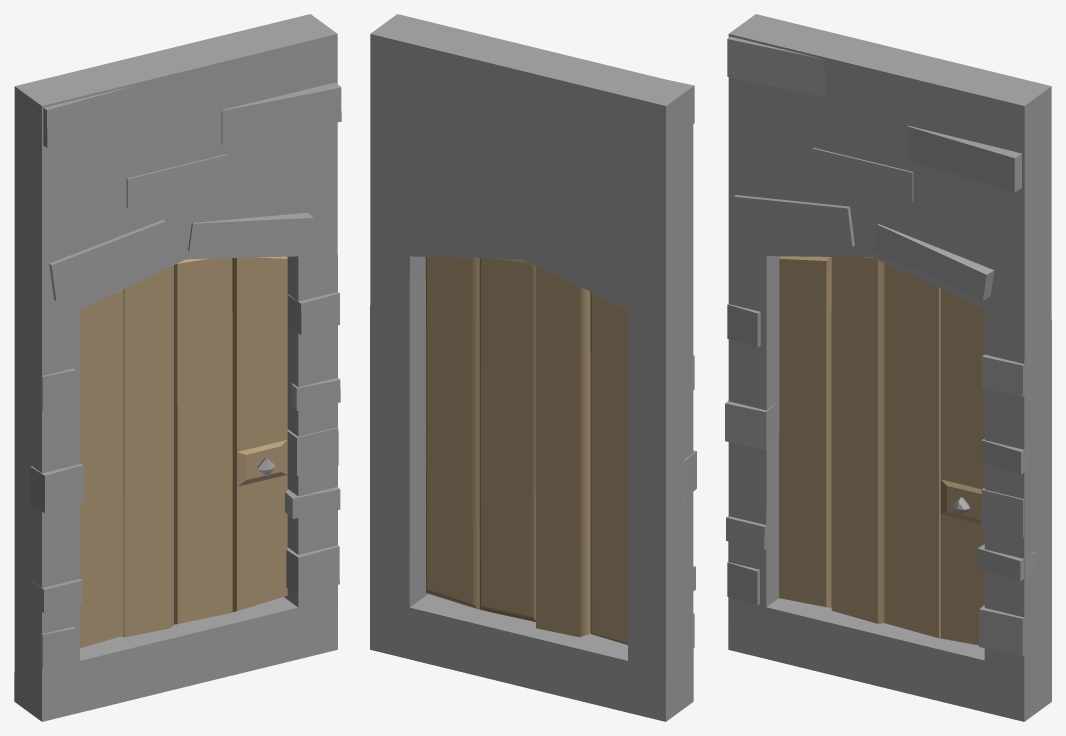
File: Gate.fbx
3 renders of one model, left to right at view 1: azimuth 30°, elevation 25°; view 2: azimuth 150°, elevation 25°; view 3: azimuth 330°, elevation 25°, orthographic.
Visible parts, largest first — view 1: pared_puerta, madera1, pared_puerta14, pared_puerta9, pared_puerta12, pared_puerta10, pared_puerta11, pared_puerta5, pared_puerta4, pared_puerta2, pared_puerta13, pared_puerta7 (+4 smaller); view 2: pared_puerta, madera1; view 3: pared_puerta, madera1, pared_puerta14, pared_puerta9, pared_puerta10, pared_puerta12, pared_puerta11, pared_puerta4, pared_puerta5, pared_puerta2, pared_puerta13, pared_puerta7 (+4 smaller).
Part boxes in pixels (bbox=[...]): pared_puerta: bbox=[14, 14, 337, 721]; madera1: bbox=[80, 256, 287, 648]; pared_puerta14: bbox=[49, 219, 170, 301]; pared_puerta9: bbox=[221, 82, 341, 144]; pared_puerta12: bbox=[188, 212, 313, 251]; pared_puerta10: bbox=[43, 85, 139, 147]; pared_puerta11: bbox=[126, 154, 227, 208]; pared_puerta5: bbox=[286, 545, 339, 595]; pared_puerta4: bbox=[30, 463, 83, 513]; pared_puerta2: bbox=[287, 427, 338, 475]; pared_puerta13: bbox=[287, 292, 339, 335]; pared_puerta7: bbox=[31, 579, 82, 612]; pared_puerta: bbox=[370, 14, 693, 721]; madera1: bbox=[425, 256, 627, 644]; pared_puerta: bbox=[728, 14, 1051, 721]; madera1: bbox=[779, 256, 984, 645]; pared_puerta14: bbox=[733, 195, 854, 246]; pared_puerta9: bbox=[907, 125, 1021, 192]; pared_puerta10: bbox=[727, 36, 826, 97]; pared_puerta12: bbox=[873, 224, 994, 300]; pared_puerta11: bbox=[812, 147, 913, 201]; pared_puerta4: bbox=[725, 401, 777, 449]; pared_puerta5: bbox=[979, 605, 1024, 656]; pared_puerta2: bbox=[981, 488, 1023, 537]; pared_puerta13: bbox=[982, 354, 1025, 396]; pared_puerta7: bbox=[726, 516, 777, 550].
Size of the model in its own units: 3.04 by 5.98 by 0.6049.
